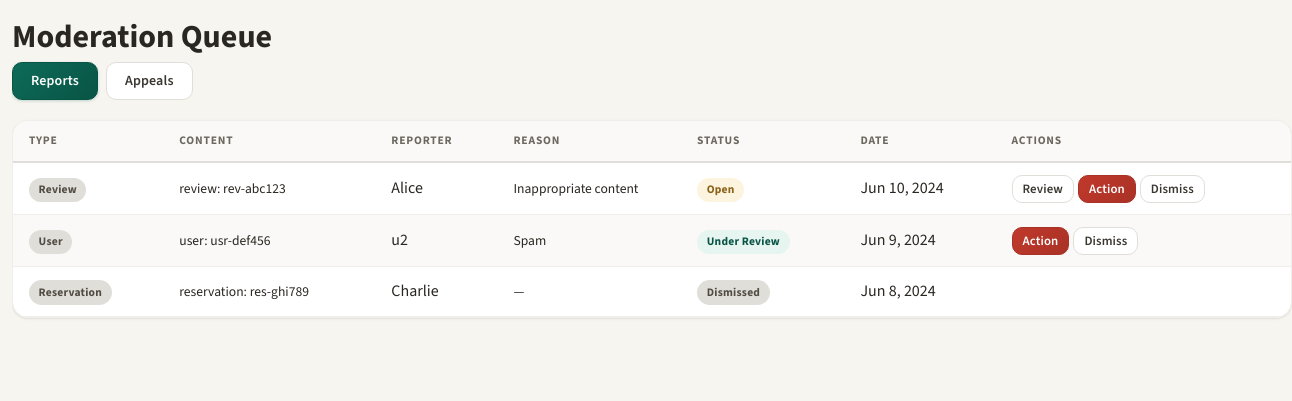
Test: ModerationPage › Reports tab › shows error when report action fails
Step 1. Click the button "Review" → click(1043, 189), box [1012, 175, 1074, 203]
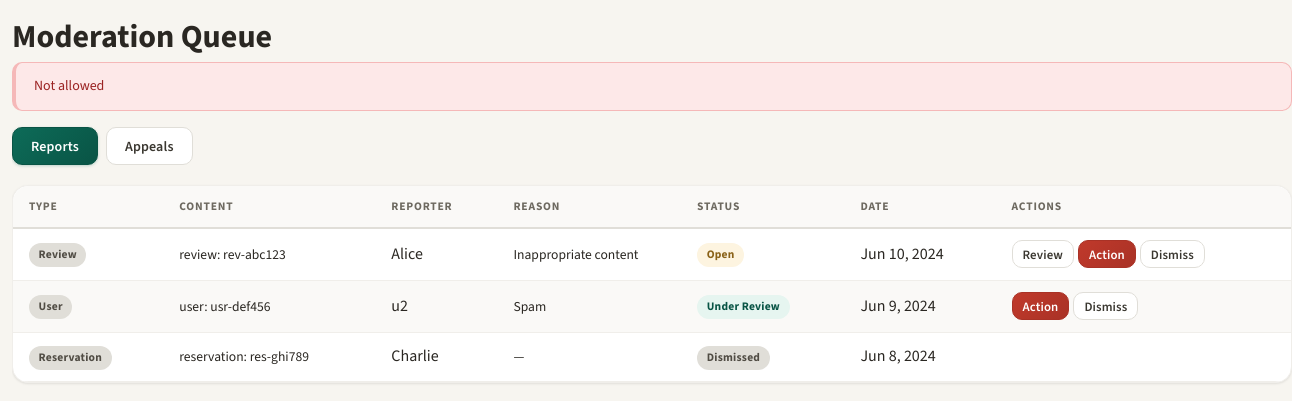
Check: the text "Not allowed" is shown, box [12, 62, 1291, 111]
